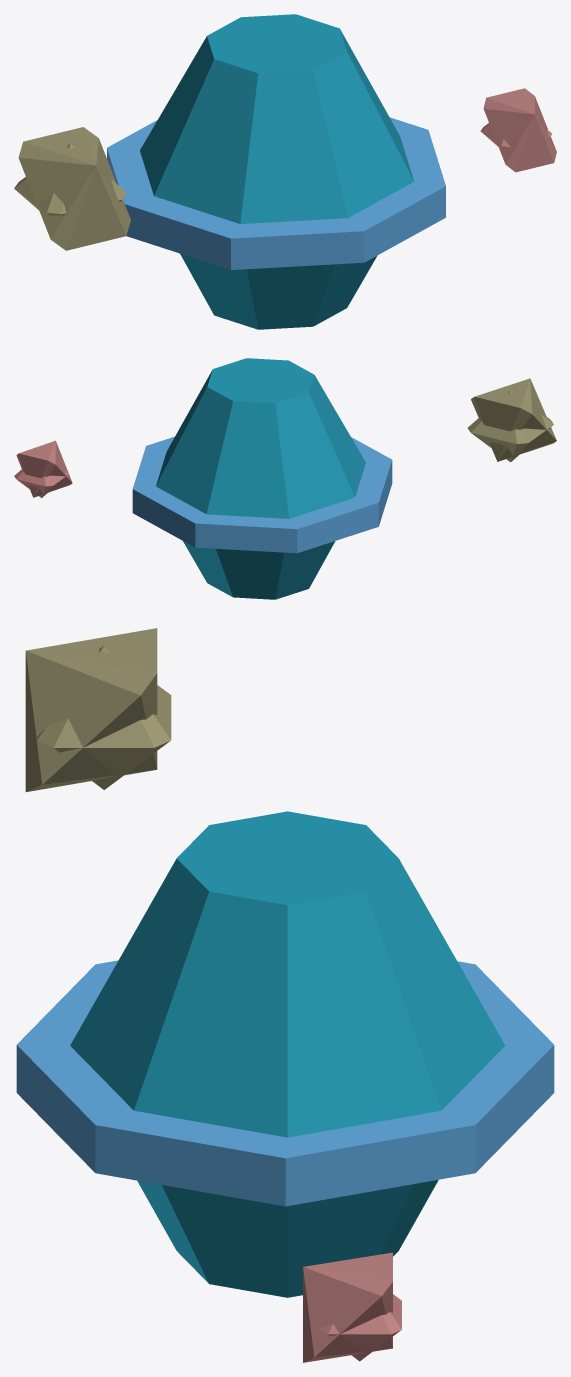
The model's file is planet_tapered_blue.glb.
3 views of the same model, one above another, from view 1: azimuth 30°, elevation 25°; view 2: azimuth 150°, elevation 25°; view 3: azimuth 270°, elevation 25° (orthographic). The views are drawn at different scales.
Parts seen in each view (by area): view 1: cylinderVertex_taper% (×2), cylinderVertex, diamond_bevel (×3); view 2: cylinderVertex_taper% (×2), cylinderVertex, diamond_bevel (×4); view 3: cylinderVertex_taper% (×2), cylinderVertex, diamond_bevel (×4).
Boxes of the visible parts, x1=… form: cylinderVertex_taper% (×2): x1=140, y1=14, x2=413, y2=329; cylinderVertex: x1=107, y1=117, x2=445, y2=269; diamond_bevel (×3): x1=14, y1=88, x2=556, y2=250; cylinderVertex_taper% (×2): x1=156, y1=358, x2=365, y2=599; cylinderVertex: x1=132, y1=436, x2=392, y2=553; diamond_bevel (×4): x1=14, y1=378, x2=556, y2=497; cylinderVertex_taper% (×2): x1=70, y1=811, x2=504, y2=1297; cylinderVertex: x1=16, y1=960, x2=554, y2=1206; diamond_bevel (×4): x1=25, y1=628, x2=401, y2=1362.
Size of the model in its own units: 2.37 by 1.01 by 1.21.
